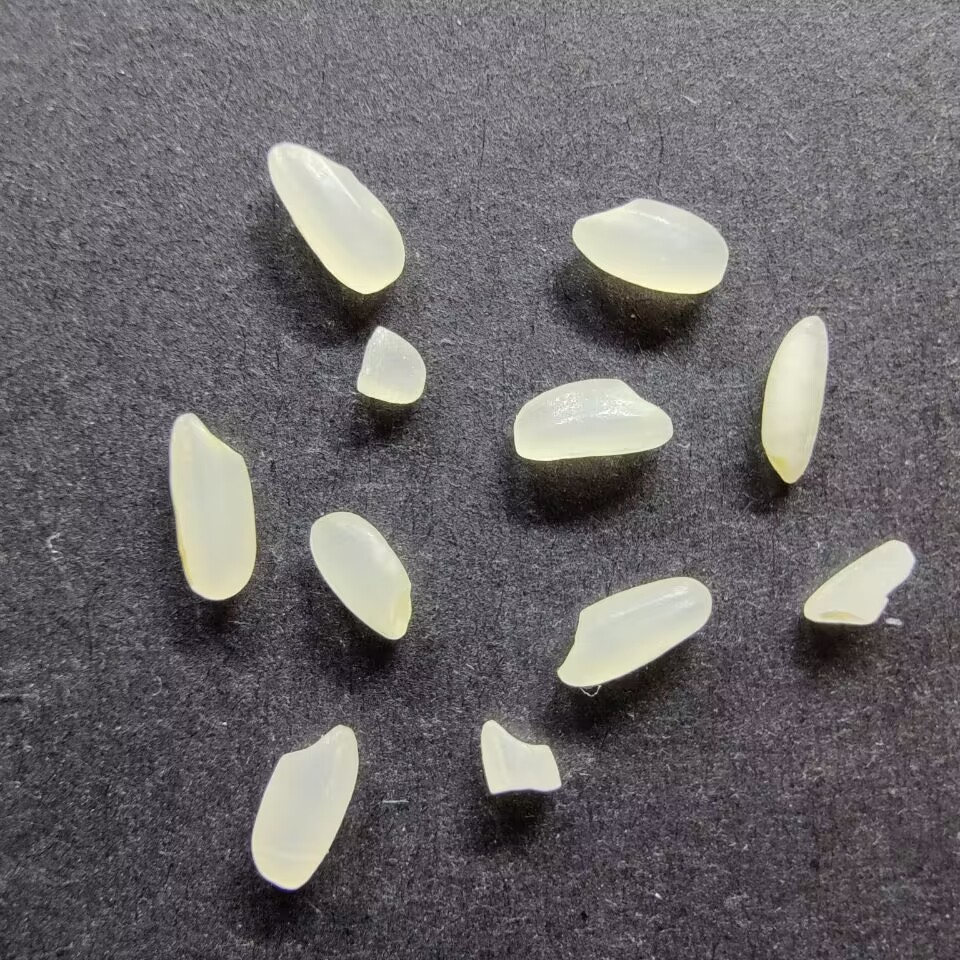broken: (801, 537, 917, 626), (479, 716, 564, 797), (355, 325, 427, 405)
rice: (265, 140, 406, 295), (250, 724, 359, 891), (554, 575, 714, 688), (166, 410, 259, 603), (571, 197, 729, 295), (309, 510, 415, 641), (512, 379, 673, 460), (761, 313, 828, 485)
